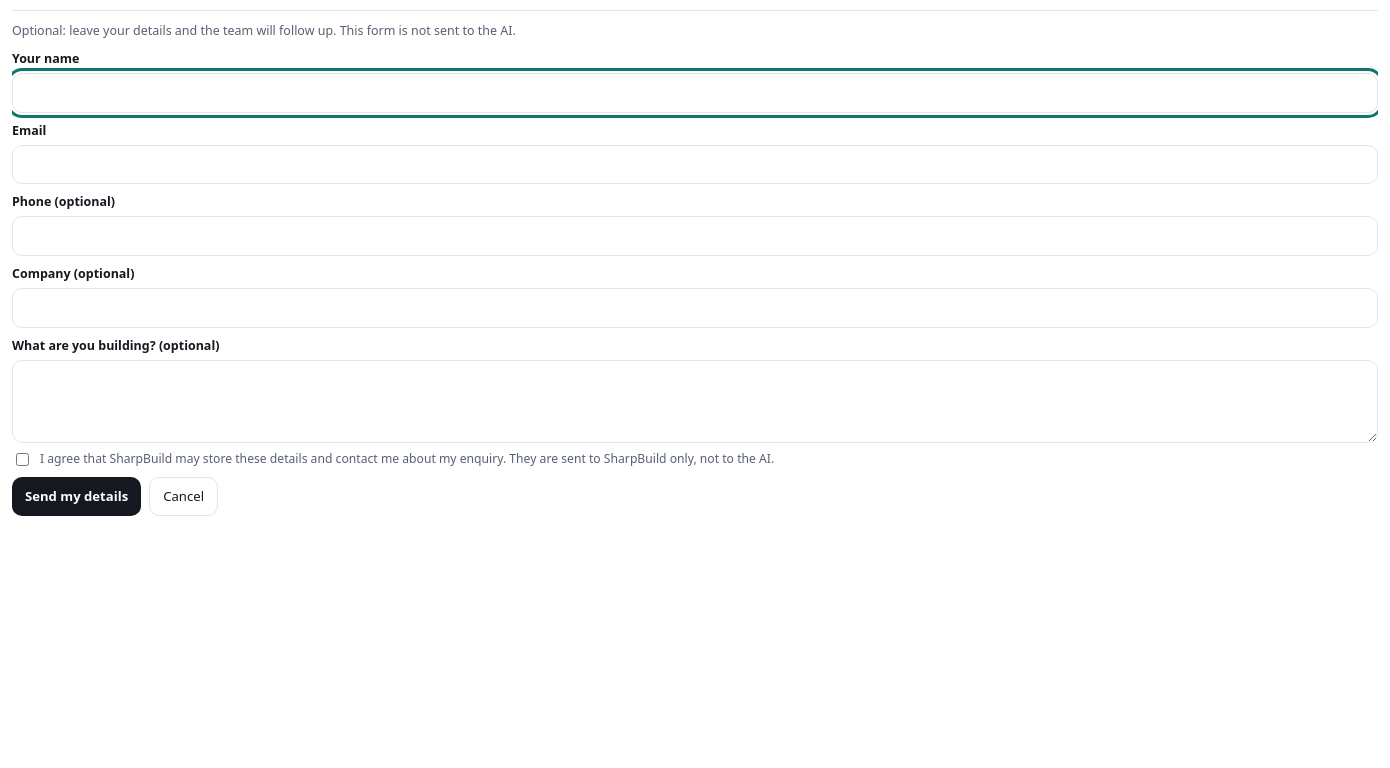
it: LeadForm › does not submit without name, a valid email and consent, and says what is missing
This screenshot has width=1390, height=768.
What coordinates should you click on to do the following:
click the button "Send my details"
I would click on:
 (77, 497)
Its box is [12,477,141,516].
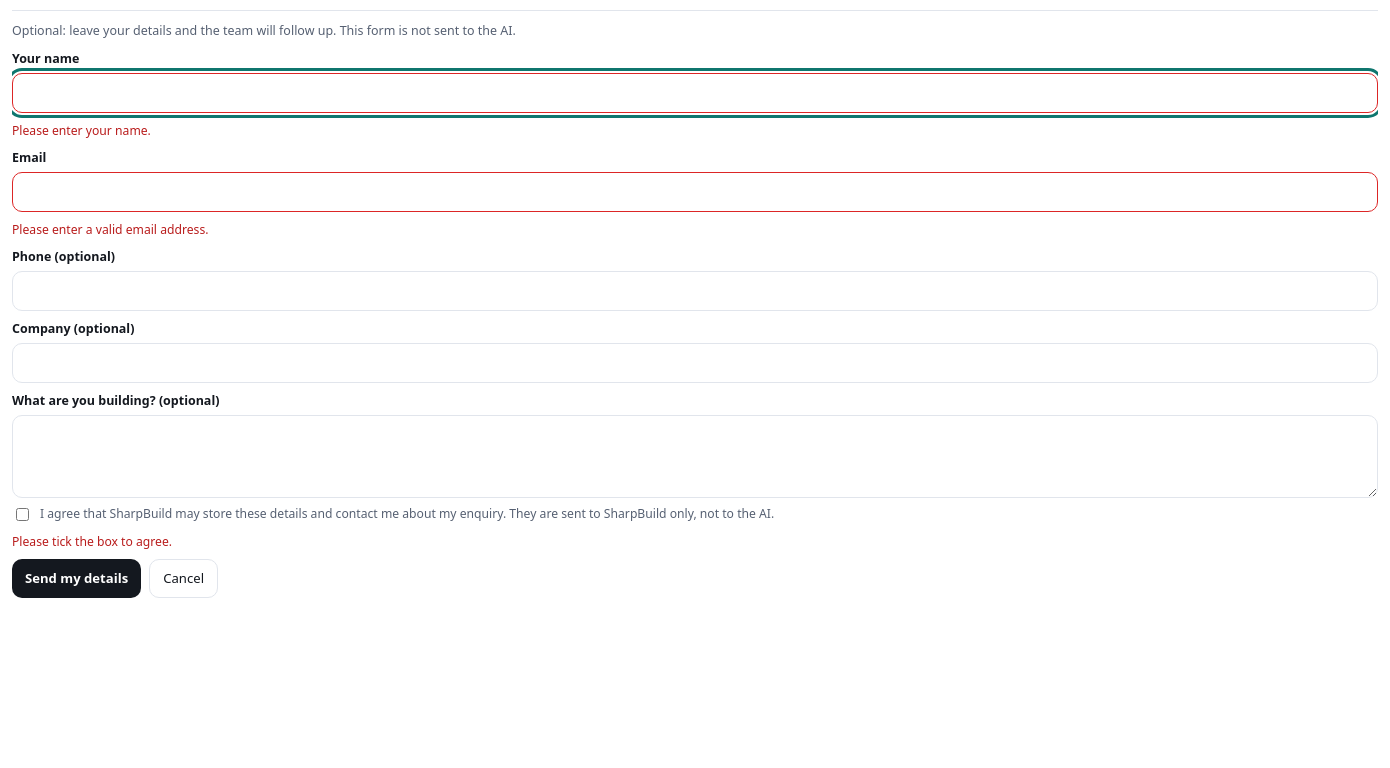
Check: the text "Please enter your name." is shown, box [12,122,151,139]
Check: the text "Please enter a valid email address." is shown, box [12,221,208,238]
Check: the text "Please tick the box to agree." is shown, box [12,533,172,550]
